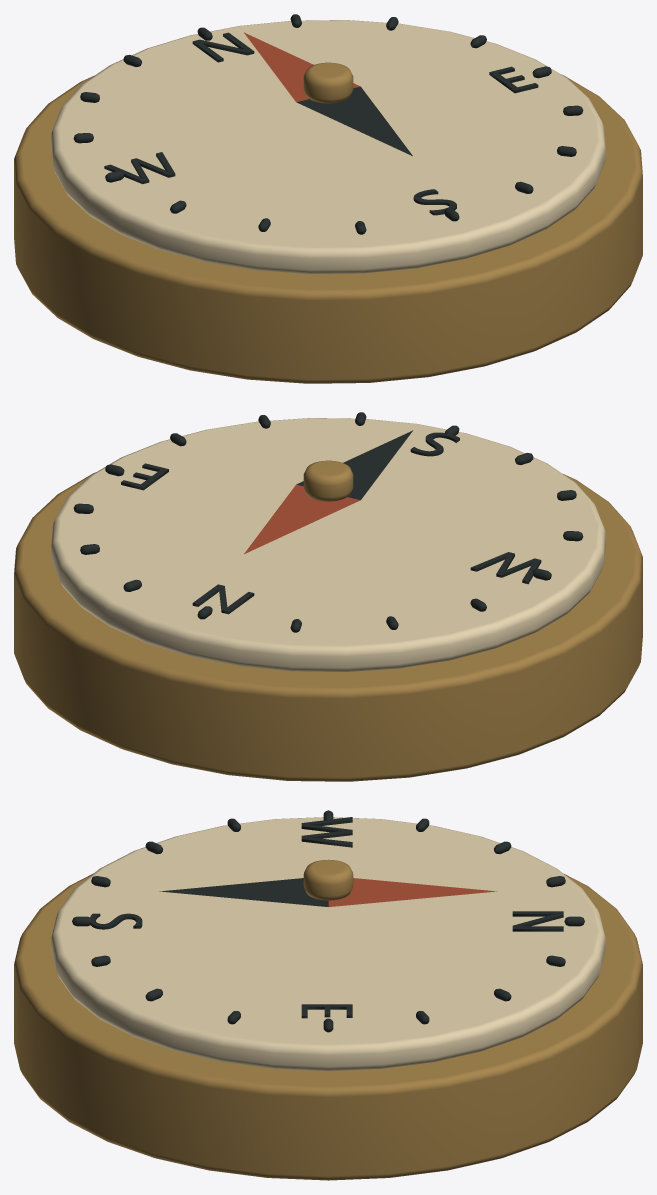
Rendered from Compass_2.fbx.
The picture shows the model from 3 angles, top to bottom: view 1: azimuth 30°, elevation 25°; view 2: azimuth 150°, elevation 25°; view 3: azimuth 270°, elevation 25°; orthographic projection.
Visible parts, largest first — view 1: Compass face.005, Compass casing.005, Needle.011, Needle pin.005, Needle.010, Compass cardinal W.005, Compass cardinal N.005, Compass cardinal E.005; view 2: Compass face.005, Compass casing.005, Needle.010, Needle pin.005, Needle.011, Compass cardinal W.005, Compass cardinal N.005, Compass cardinal E.005; view 3: Compass face.005, Compass casing.005, Needle.011, Needle.010, Needle pin.005, Compass cardinal W.005, Compass cardinal N.005.
Part boxes in pixels (left/top/right/bottom): Compass face.005: left=51, top=20, right=605, bottom=273; Compass casing.005: left=14, top=74, right=642, bottom=383; Needle.011: left=296, top=86, right=412, bottom=156; Needle pin.005: left=303, top=62, right=353, bottom=103; Needle.010: left=244, top=32, right=360, bottom=102; Compass cardinal W.005: left=104, top=152, right=175, bottom=184; Compass cardinal N.005: left=192, top=32, right=254, bottom=62; Compass cardinal E.005: left=489, top=66, right=538, bottom=93; Compass face.005: left=51, top=418, right=605, bottom=671; Compass casing.005: left=14, top=472, right=642, bottom=781; Needle.010: left=244, top=484, right=360, bottom=554; Needle pin.005: left=303, top=460, right=353, bottom=501; Needle.011: left=296, top=430, right=412, bottom=500; Compass cardinal W.005: left=470, top=552, right=541, bottom=584; Compass cardinal N.005: left=192, top=584, right=254, bottom=614; Compass cardinal E.005: left=121, top=463, right=168, bottom=490; Compass face.005: left=51, top=817, right=605, bottom=1070; Compass casing.005: left=14, top=873, right=642, bottom=1180; Needle.011: left=159, top=878, right=328, bottom=906; Needle.010: left=328, top=878, right=497, bottom=906; Needle pin.005: left=303, top=859, right=353, bottom=900; Compass cardinal W.005: left=301, top=817, right=352, bottom=847; Compass cardinal N.005: left=512, top=911, right=563, bottom=931.
Size of the model in its own units: 0.152 by 0.049 by 0.152.
